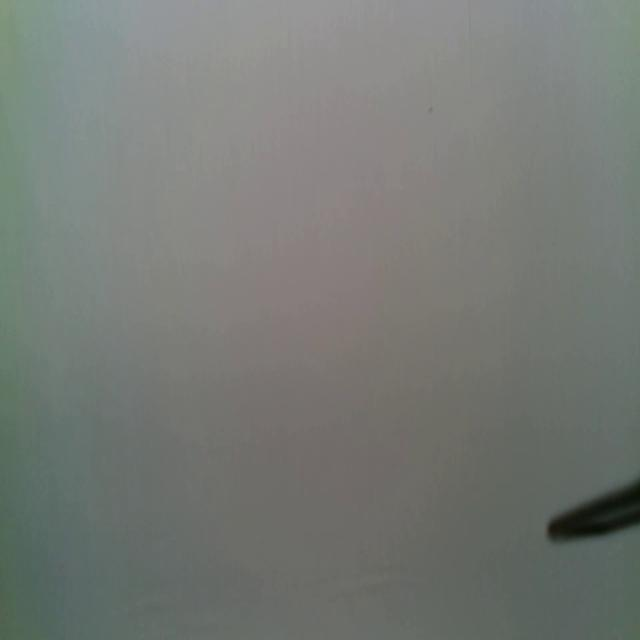hole: (427, 102, 434, 117)
